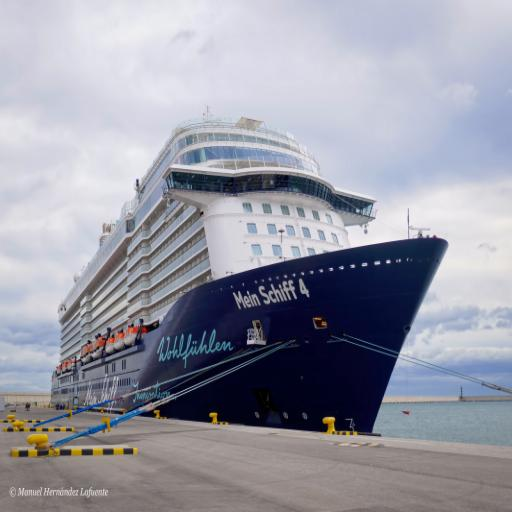cruises: (44, 119, 450, 443)
